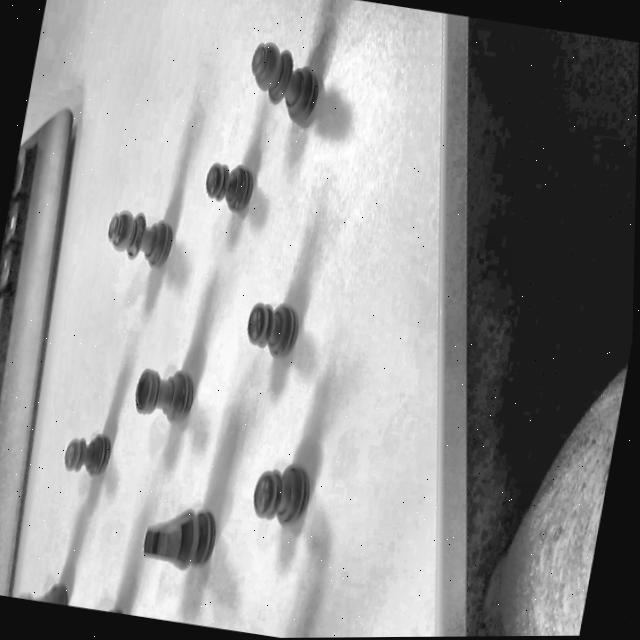black-bishop: (231, 26, 335, 137), (93, 181, 193, 287)
black-knight: (131, 475, 230, 586), (67, 579, 134, 615)
black-pawn: (242, 442, 327, 541), (235, 285, 314, 379), (192, 144, 268, 236), (50, 416, 121, 492)
black-rook: (124, 357, 207, 438), (11, 568, 76, 606)
